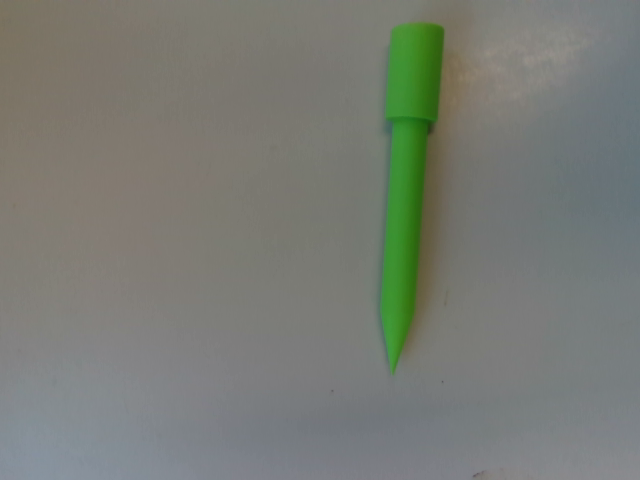Probe: (373, 11, 459, 389)
